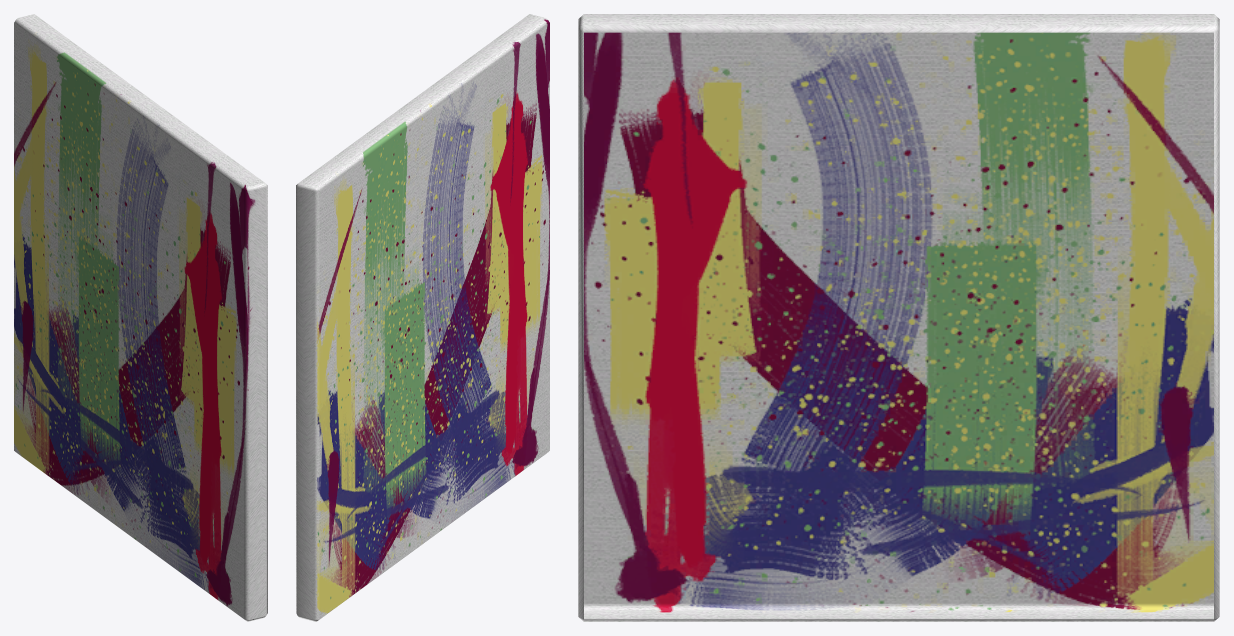
File: SM_painting_1.fbx
The picture shows the model from 3 angles, left to right: view 1: azimuth 30°, elevation 25°; view 2: azimuth 150°, elevation 25°; view 3: azimuth 270°, elevation 25°; orthographic projection. The views are drawn at different scales.
Parts seen in each view (by area): view 1: pCube2; view 2: pCube2; view 3: pCube2.
Boxes of the visible parts, x1=… form: pCube2: x1=14, y1=14, x2=267, y2=621; pCube2: x1=296, y1=14, x2=549, y2=621; pCube2: x1=578, y1=14, x2=1219, y2=621.
Bounding box in the file's own units: 0.1094 × 1.9 × 1.85.
